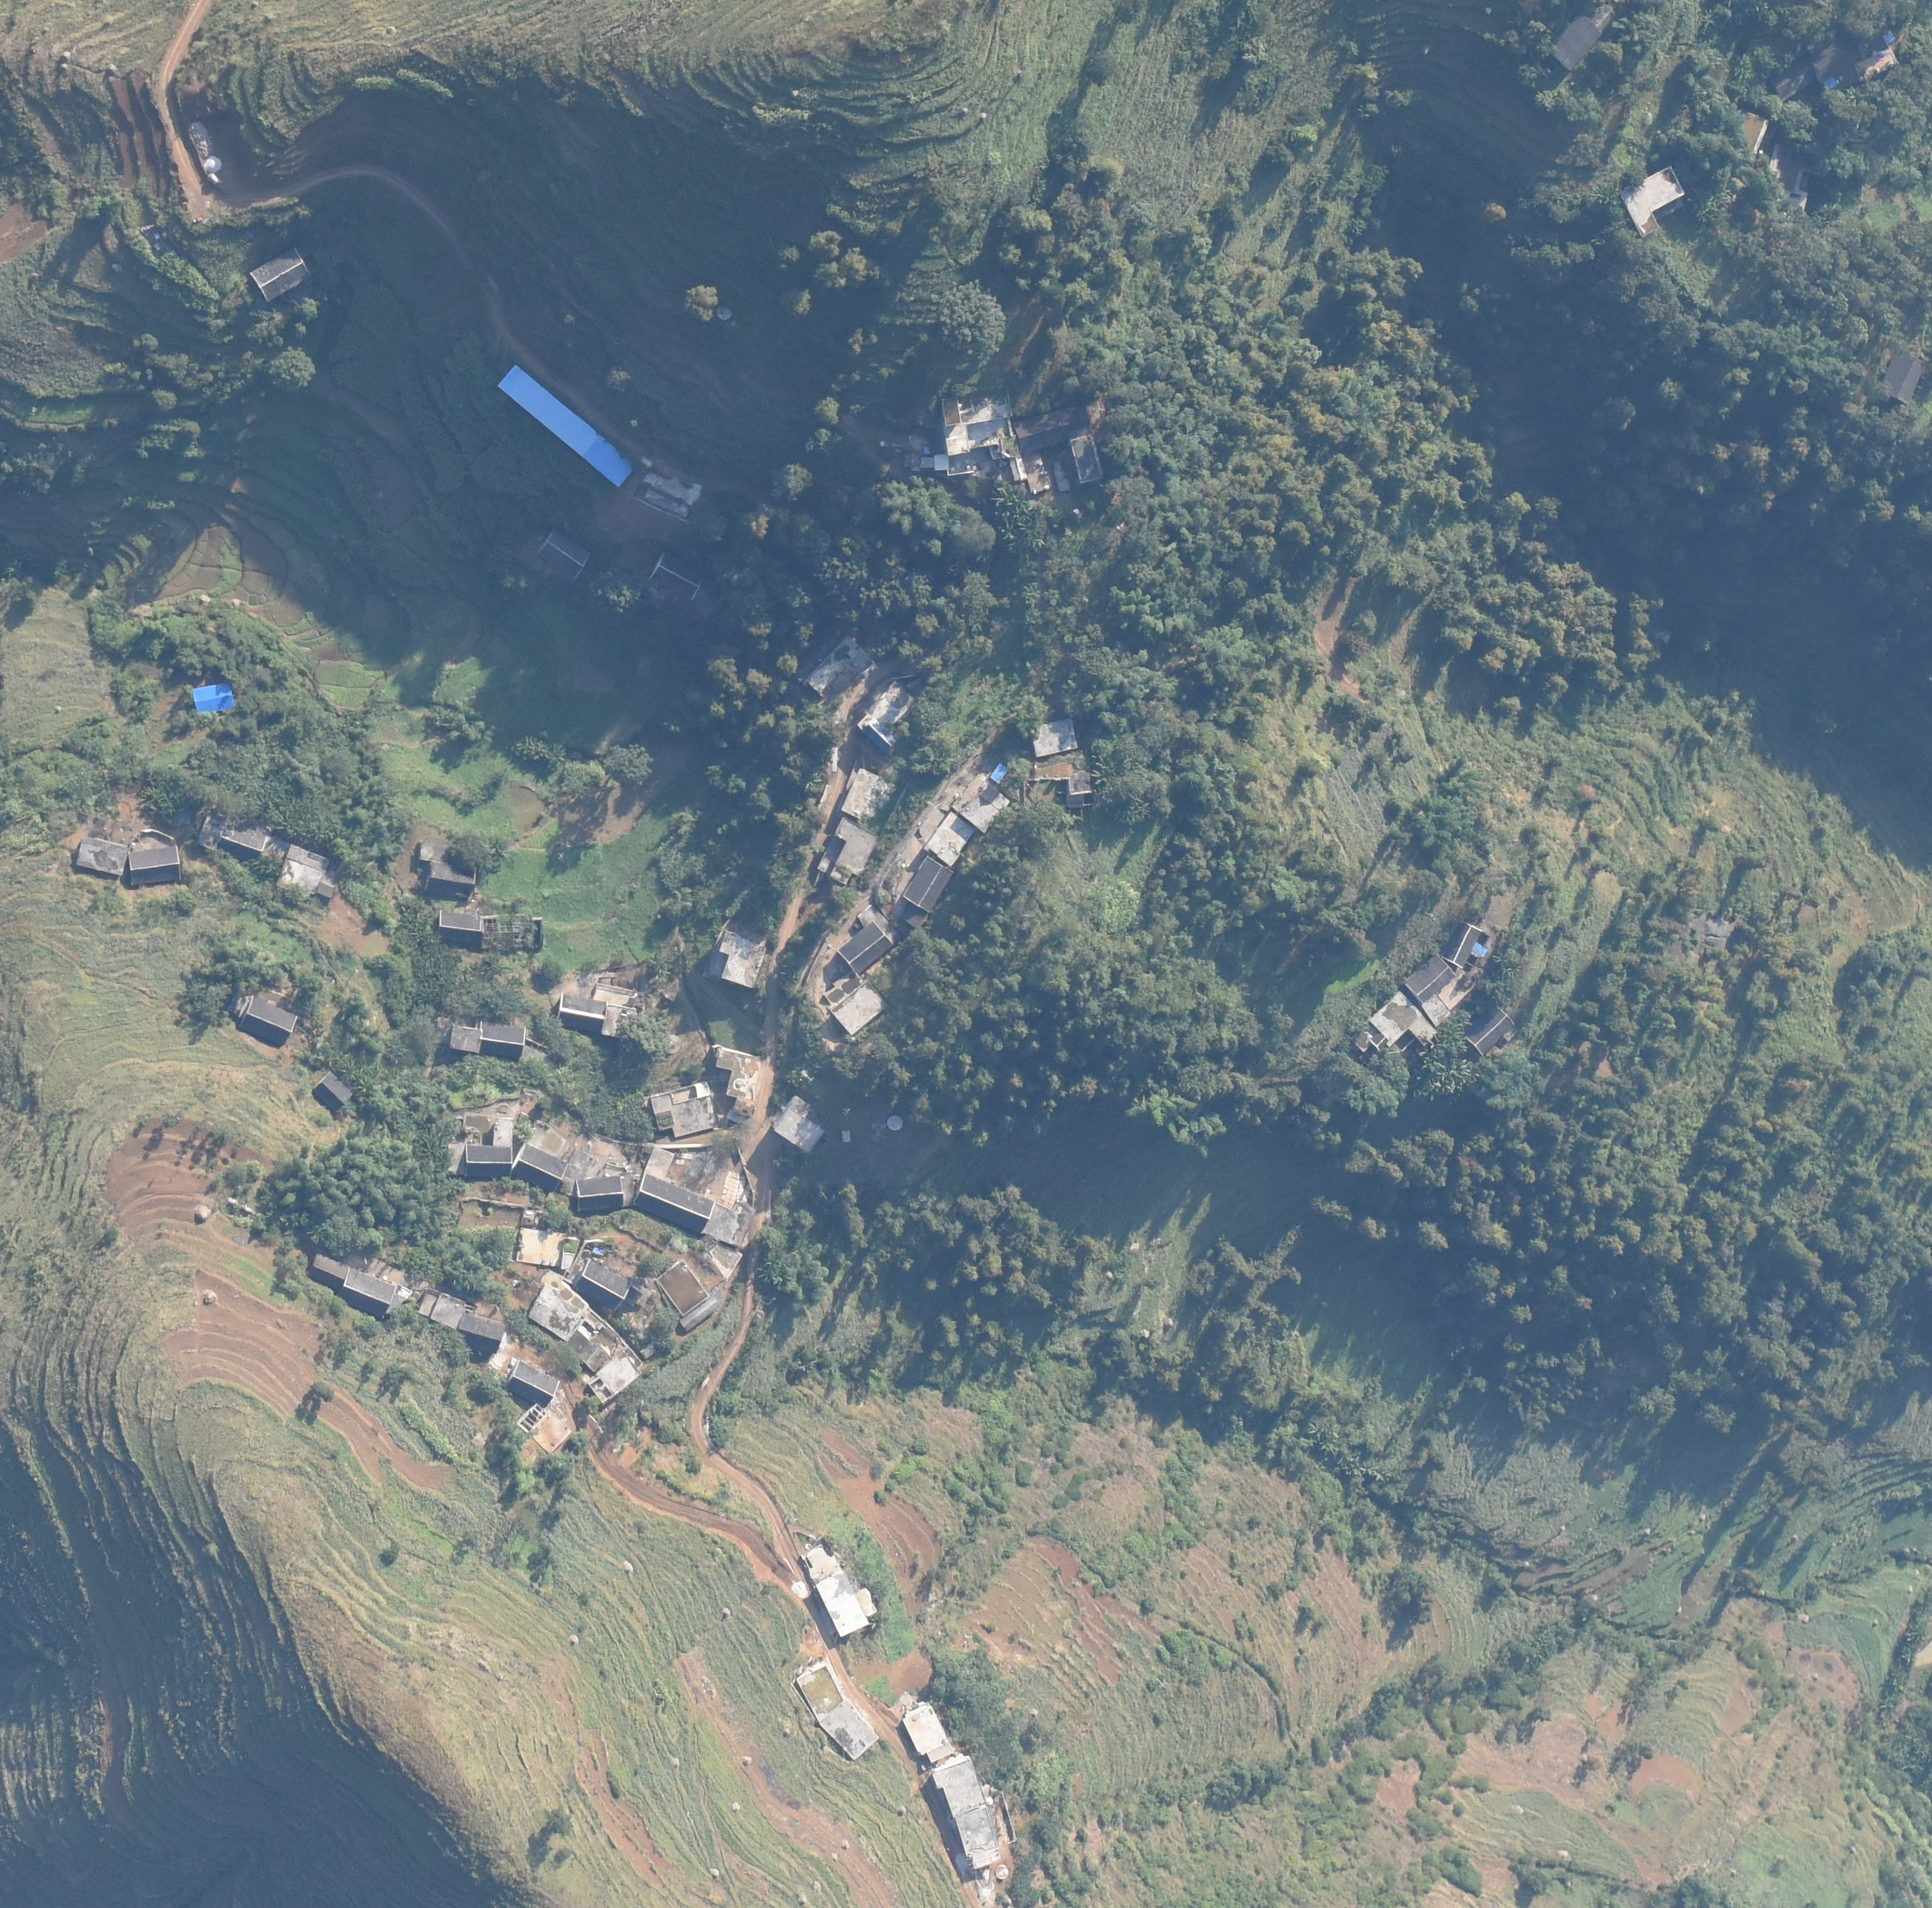building: (924, 393, 1025, 484), (797, 1667, 877, 1761), (935, 1758, 1003, 1868), (802, 1543, 880, 1637), (571, 1314, 645, 1403), (1354, 991, 1441, 1057), (1618, 166, 1691, 239), (197, 807, 285, 865), (632, 1176, 716, 1235), (421, 1291, 505, 1349), (1401, 959, 1476, 1022), (1553, 0, 1619, 70), (559, 984, 638, 1041), (835, 905, 900, 973), (655, 1262, 720, 1330), (444, 1111, 512, 1174), (1822, 35, 1897, 91), (804, 634, 872, 695), (858, 681, 915, 753), (898, 856, 956, 928), (816, 816, 873, 886), (713, 1047, 763, 1120), (954, 774, 1011, 835), (823, 975, 884, 1033), (706, 933, 767, 991), (650, 1085, 718, 1136), (416, 839, 477, 895), (1031, 762, 1099, 811), (451, 1013, 526, 1057), (248, 246, 307, 301), (903, 1698, 954, 1761), (770, 1096, 828, 1150), (529, 1286, 587, 1340), (643, 554, 711, 599), (641, 470, 702, 519), (569, 1260, 631, 1307), (840, 765, 891, 821), (279, 847, 335, 898), (341, 1270, 402, 1316), (922, 812, 973, 867), (1880, 351, 1927, 409), (1467, 1008, 1518, 1059), (234, 994, 295, 1036), (538, 529, 594, 573), (505, 1365, 559, 1408), (1728, 107, 1771, 159), (517, 1144, 569, 1186), (1441, 921, 1488, 966), (129, 846, 182, 886), (75, 837, 129, 874), (526, 1412, 571, 1452), (517, 1230, 564, 1267), (1031, 718, 1080, 753), (580, 1176, 627, 1211), (311, 1071, 351, 1111), (1067, 433, 1101, 480), (437, 912, 484, 945), (304, 1255, 346, 1288), (645, 1148, 673, 1178)
prefabricated-house: (496, 365, 632, 487), (192, 683, 234, 715), (992, 762, 1008, 786)
well: (659, 1033, 683, 1054), (716, 297, 735, 320), (886, 1116, 903, 1132), (994, 1864, 1008, 1880)
